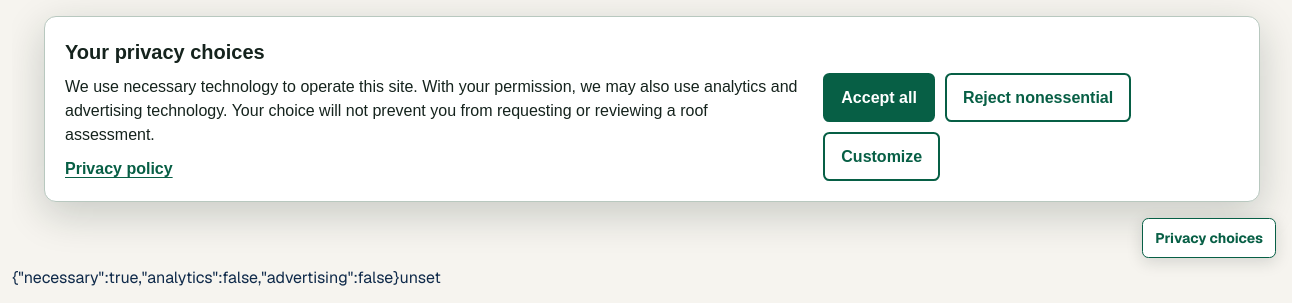
Scenario: PrivacyConsentProvider › reject keeps necessary on and nonessential off
Step 1. Click the button "Reject nonessential" → {"x": 1038, "y": 98}, box left=945, top=73, right=1131, bottom=122
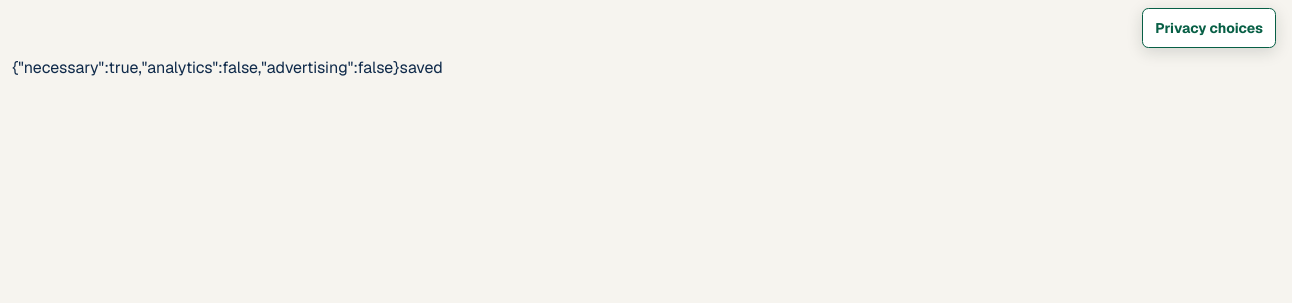
Expected: the text with test id "preferences" reads "{\"necessary\":true,\"analytics\":false,\"advertising\":false}", left=12, top=57, right=400, bottom=78
Now the text with test id "status" reads "saved", box left=400, top=57, right=443, bottom=78
